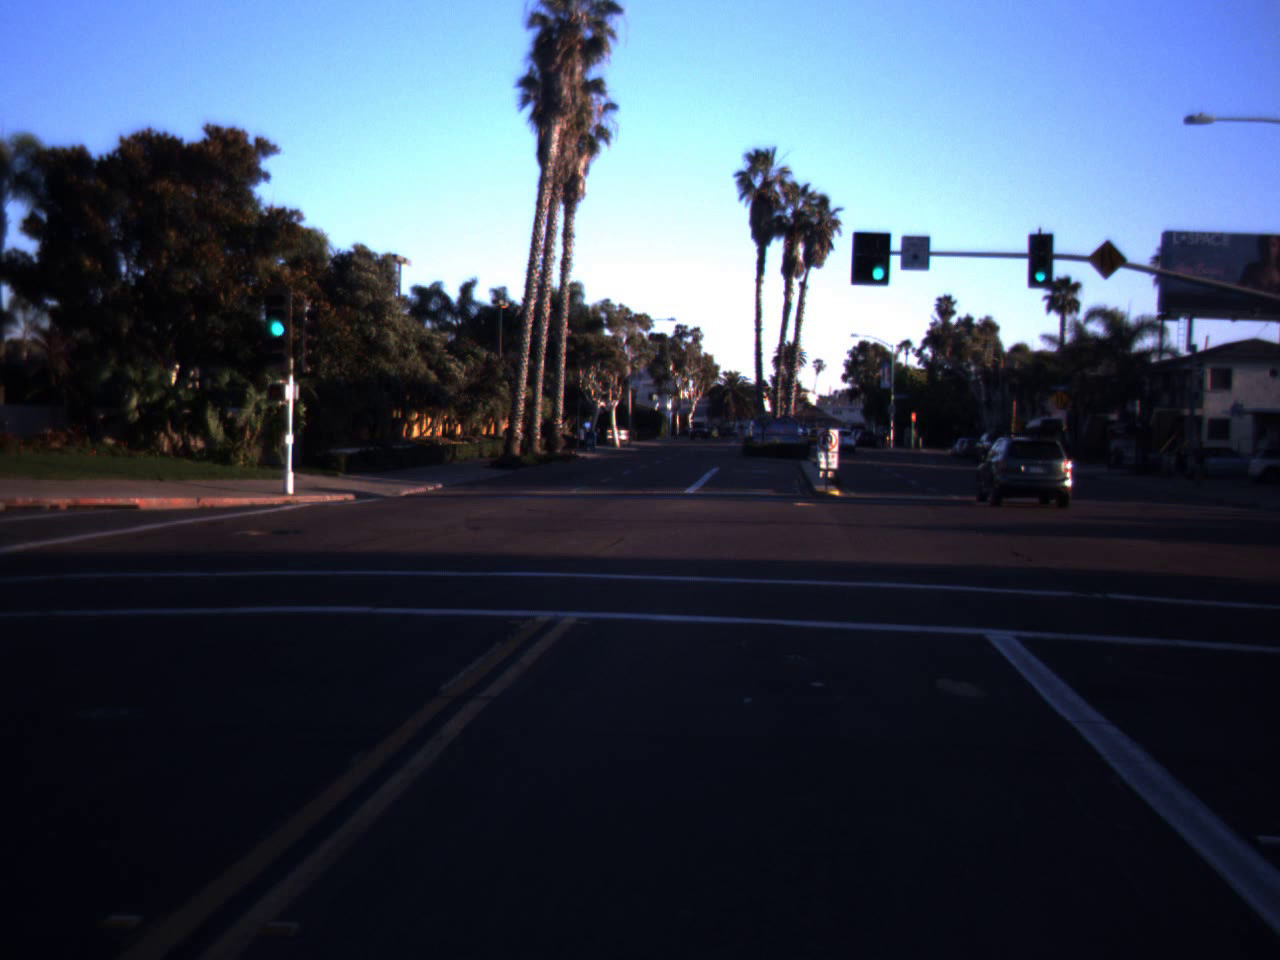go: (261, 281, 294, 341), (865, 234, 892, 284), (1027, 249, 1054, 284)
